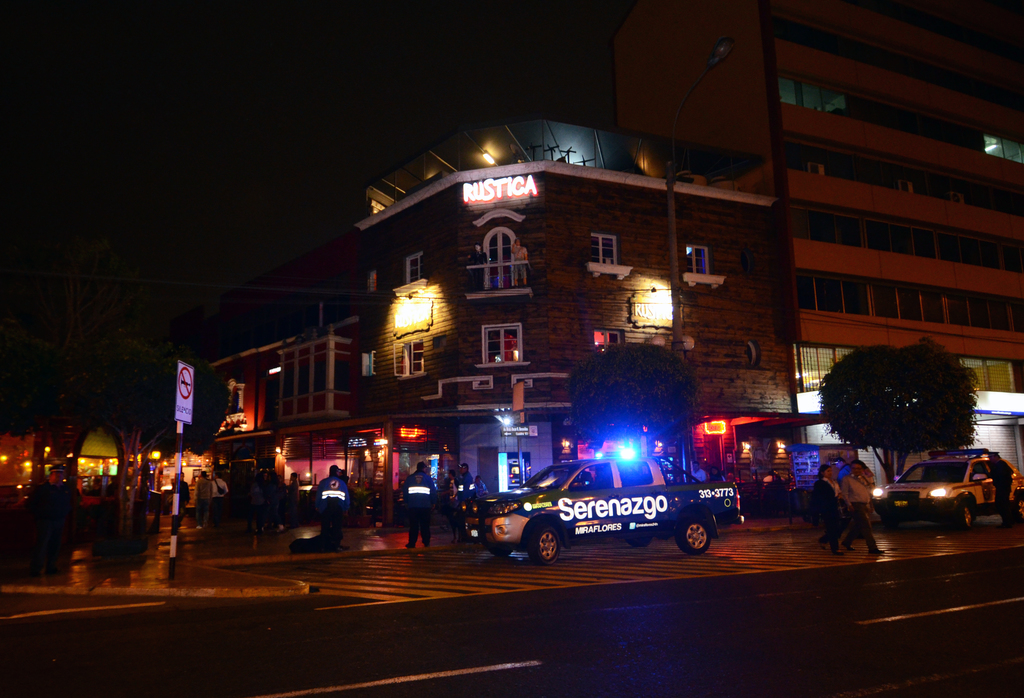Car: (870, 448, 1023, 532)
